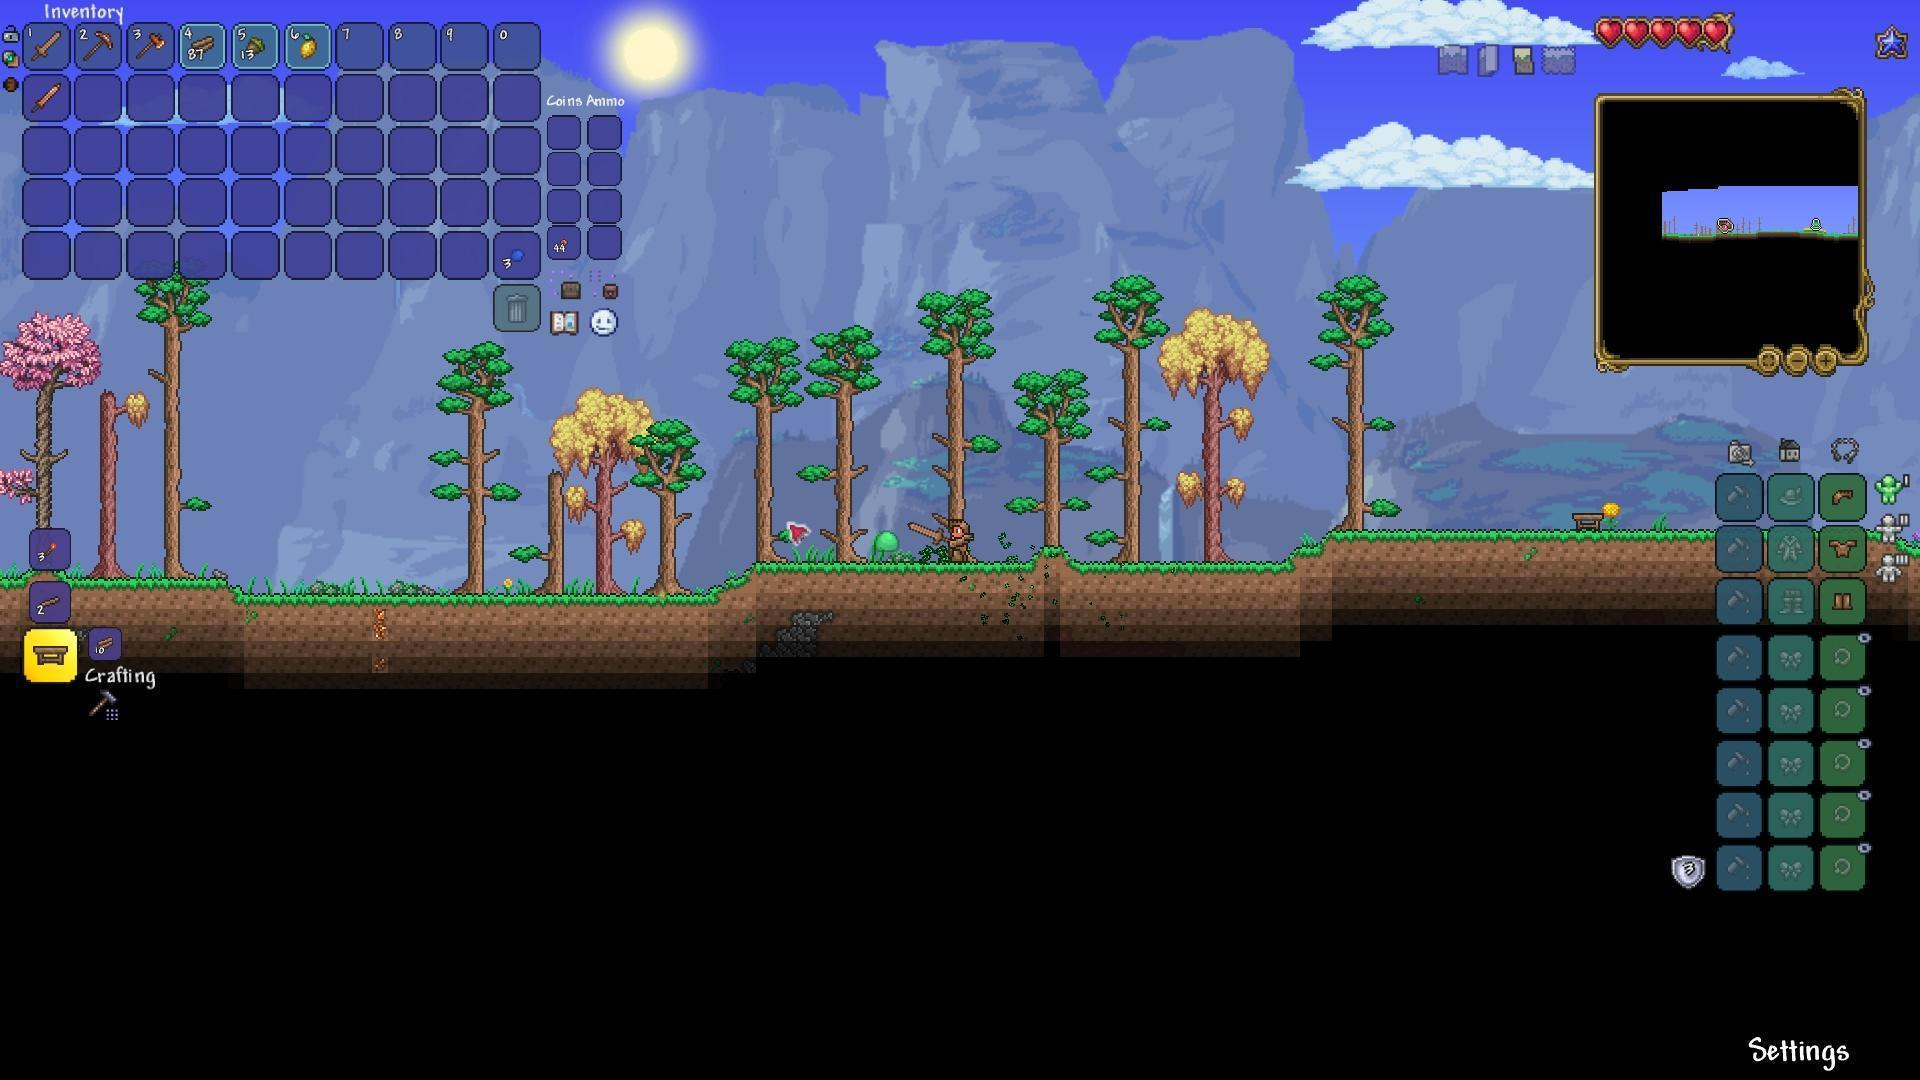breastplate: (1830, 538, 1859, 559)
helmet: (1828, 483, 1858, 510)
legs: (1832, 588, 1855, 616)
slime: (872, 530, 899, 556)
wood: (186, 29, 219, 59), (91, 629, 123, 659)
workbench: (1567, 510, 1604, 535), (32, 644, 69, 669)
